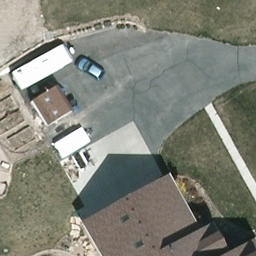camping car: (9, 41, 81, 93), (53, 124, 96, 162)
car: (76, 55, 107, 81)
